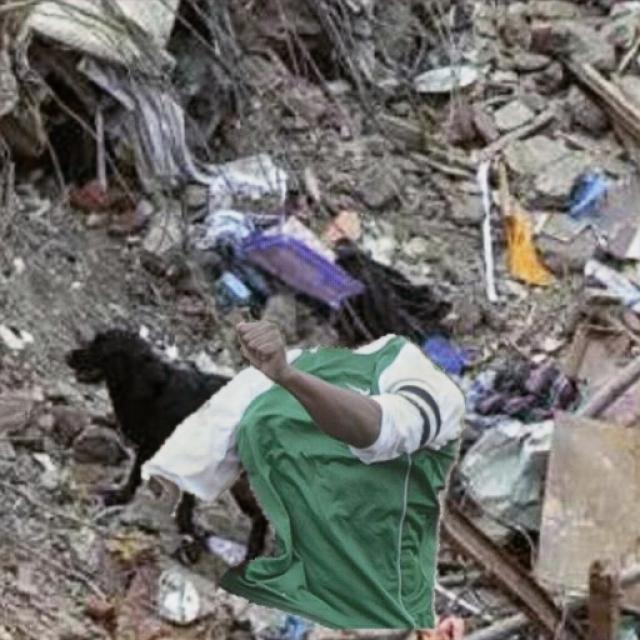Person in Rubble: (141, 320, 465, 628)
